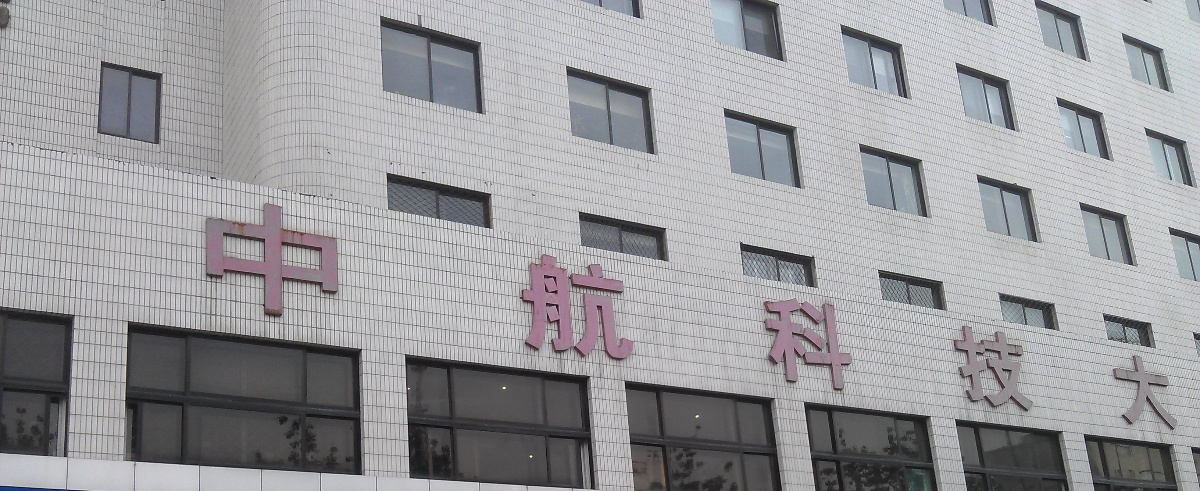text: (209, 195, 224, 432), (225, 195, 240, 432), (241, 195, 256, 432), (257, 195, 272, 432), (273, 195, 288, 432), (289, 195, 304, 432), (305, 195, 320, 432), (321, 195, 336, 432), (337, 195, 352, 432), (353, 195, 368, 432), (369, 195, 384, 432), (385, 195, 400, 432), (401, 195, 416, 432), (417, 195, 432, 432), (433, 195, 448, 432), (449, 195, 464, 432), (465, 195, 480, 432), (481, 195, 496, 432), (497, 195, 512, 432), (513, 195, 528, 432), (529, 195, 544, 432), (545, 195, 560, 432), (561, 195, 576, 432), (577, 195, 592, 432), (593, 195, 608, 432), (609, 195, 624, 432), (625, 195, 640, 432), (641, 195, 656, 432), (657, 195, 672, 432), (673, 195, 688, 432), (689, 195, 704, 432), (705, 195, 720, 432), (721, 195, 736, 432), (737, 195, 752, 432), (753, 195, 768, 432), (769, 195, 784, 432), (785, 195, 800, 432), (801, 195, 816, 432), (817, 195, 832, 432), (833, 195, 848, 432), (849, 195, 864, 432), (865, 195, 880, 432), (881, 195, 896, 432), (897, 195, 912, 432), (913, 195, 928, 432), (929, 195, 944, 432), (945, 195, 960, 432), (961, 195, 976, 432), (977, 195, 992, 432), (993, 195, 1008, 432), (1009, 195, 1024, 432), (1025, 195, 1040, 432), (1041, 195, 1056, 432), (1057, 195, 1072, 432), (1073, 195, 1088, 432), (1089, 195, 1104, 432), (1105, 195, 1120, 432), (1121, 195, 1136, 432), (1137, 195, 1152, 432), (1153, 195, 1168, 432), (1169, 195, 1181, 432), (207, 195, 208, 432)
